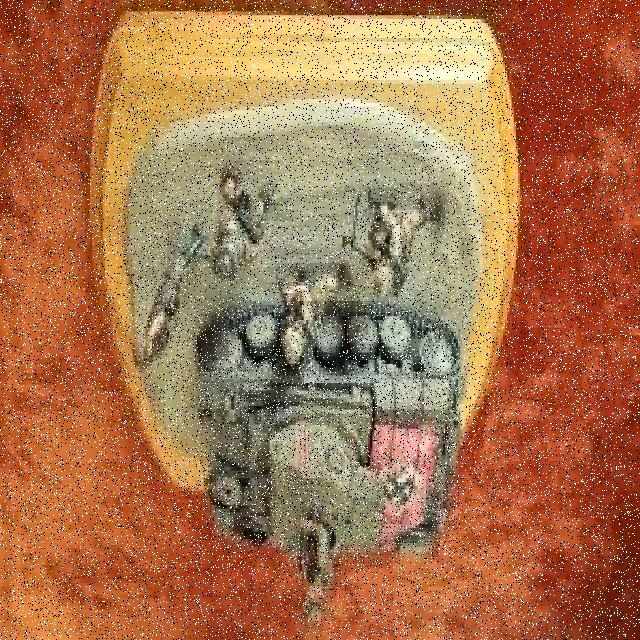MIL_MBT: (200, 351, 459, 551)
